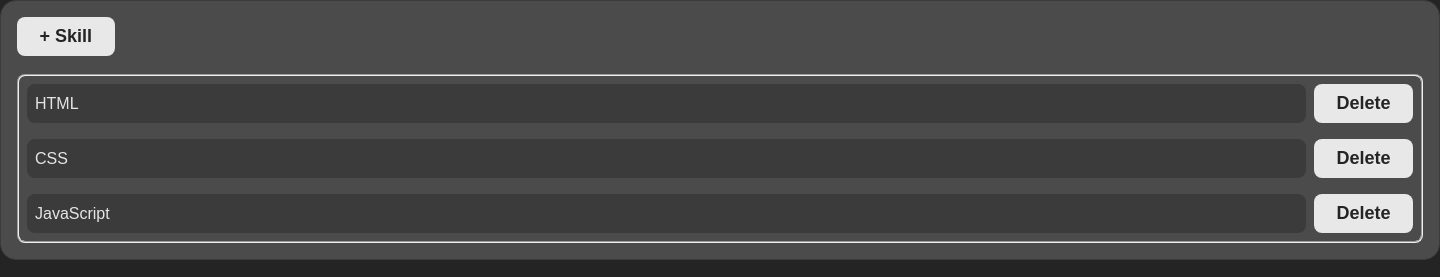
Test: Testing the Skills component › Testing form buttons and inputs › Clicking delete skill button deletes the correct skill
Click the 2nd button "Delete": click(1364, 158) [1314,139,1413,178]
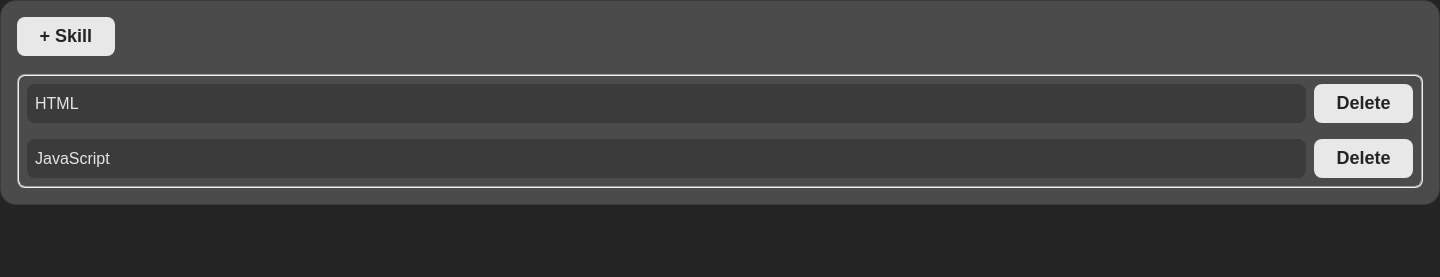
Expected: the 1st field showing "HTML" is shown, [27,84,1306,123]
Expected: the 2nd field showing "JavaScript" is shown, [27,139,1306,178]
